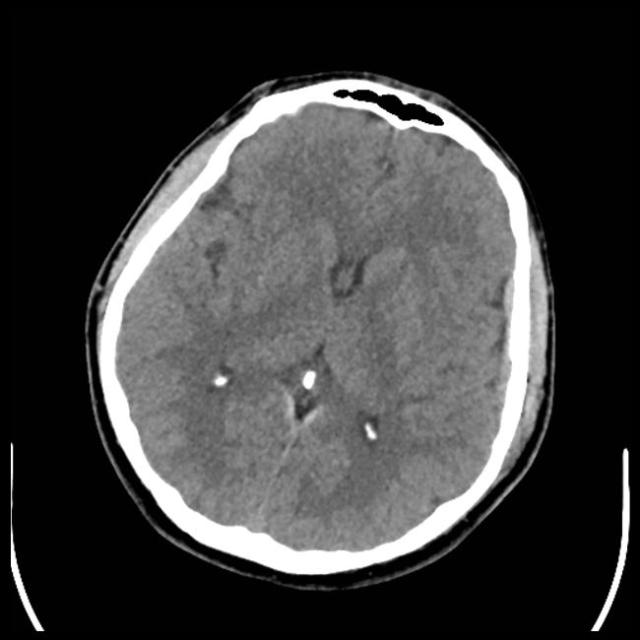lesion: (87, 73, 551, 578)
